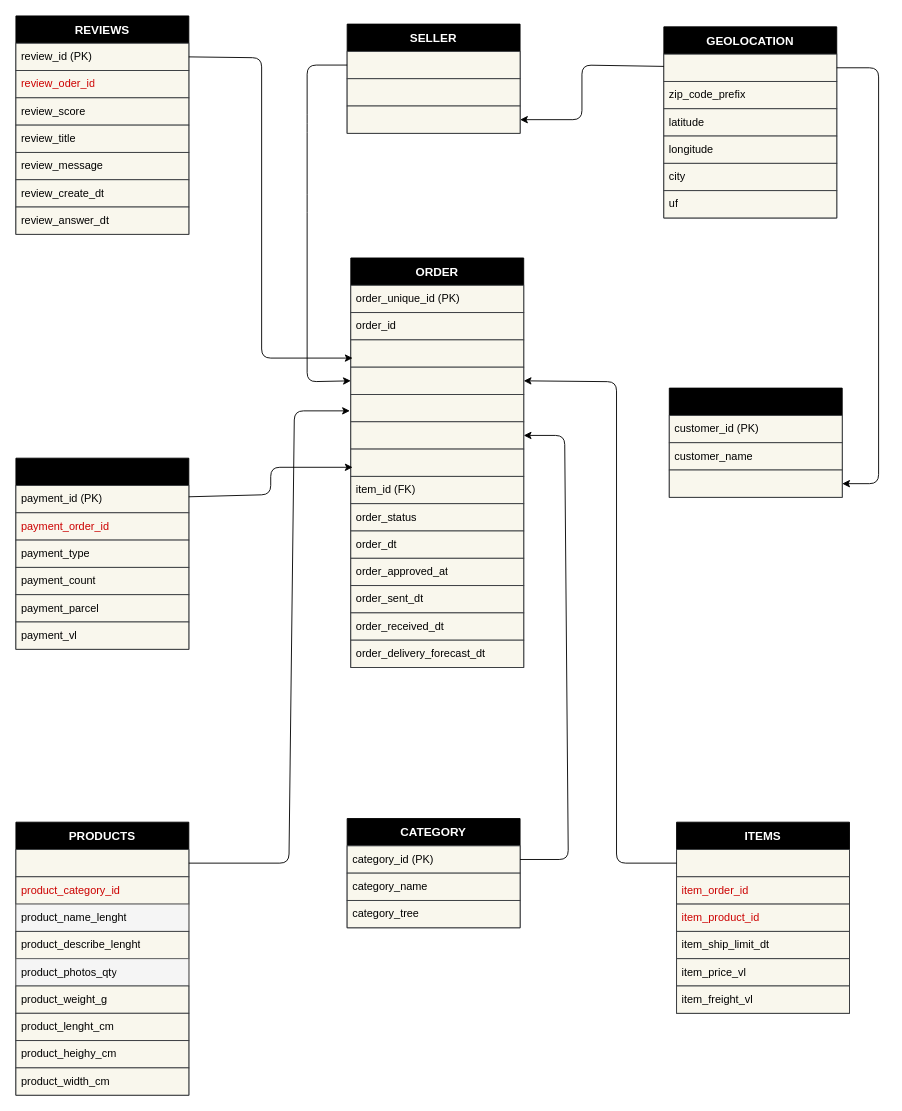
Image size: 902x1111. Some labels were removed from this diagram. The shapes that lost their labels are listed below. From the top down, each one's centre as x and y in pixels, then its label:
the point at 433,65: seller_id (PK)
the point at 750,67: geolocation_id (PK)
the point at 433,92: seller_name
the point at 433,119: seller_geolocation_id (FK)
the point at 437,353: customer_id (FK)
the point at 437,380: seller_id (FK)
the point at 437,408: product_id (FK)
the point at 437,435: category_id (FK)
the point at 437,462: review_id (FK)
the point at 755,483: customer_geolocation_id (FK)
the point at 102,863: product_id (PK)
the point at 762,863: item_id (PK)
